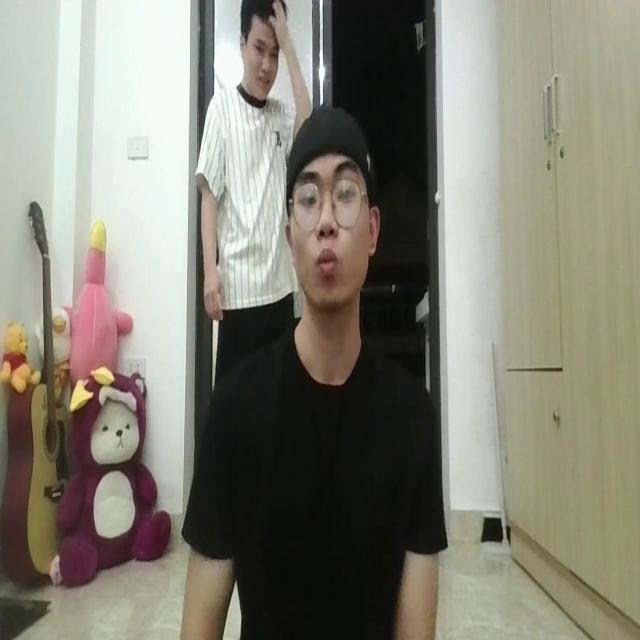extra_person: (196, 0, 310, 395)
student: (190, 117, 444, 640)
